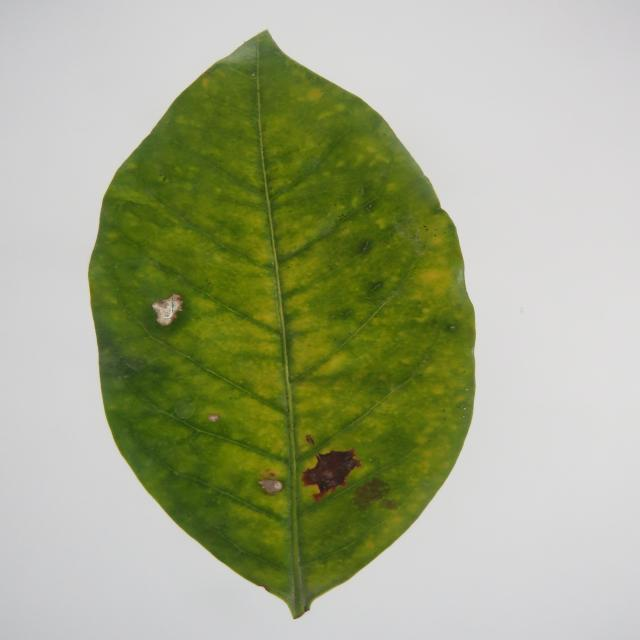DeficienciaNutricional-Magnesio: (90, 31, 475, 618)
